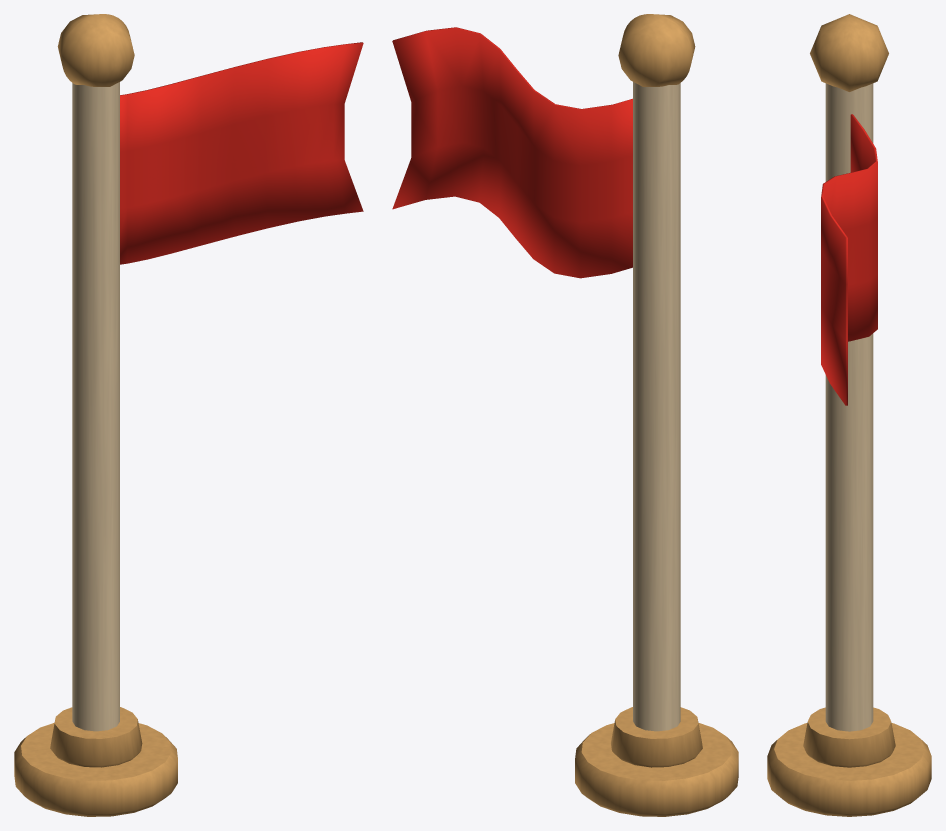
File: flagpole.fbx
3 renders of one model, left to right at view 1: azimuth 30°, elevation 25°; view 2: azimuth 150°, elevation 25°; view 3: azimuth 270°, elevation 25°, orthographic.
Visible parts, largest first — view 1: flagpole; view 2: flagpole; view 3: flagpole.
Part boxes in pixels (x1,y1,x2,y2): flagpole: [14, 14, 363, 816]; flagpole: [392, 14, 738, 816]; flagpole: [767, 14, 931, 816].
Bounding box in the file's own units: 1464 × 3200 × 620.
1 material, 1 textured.
